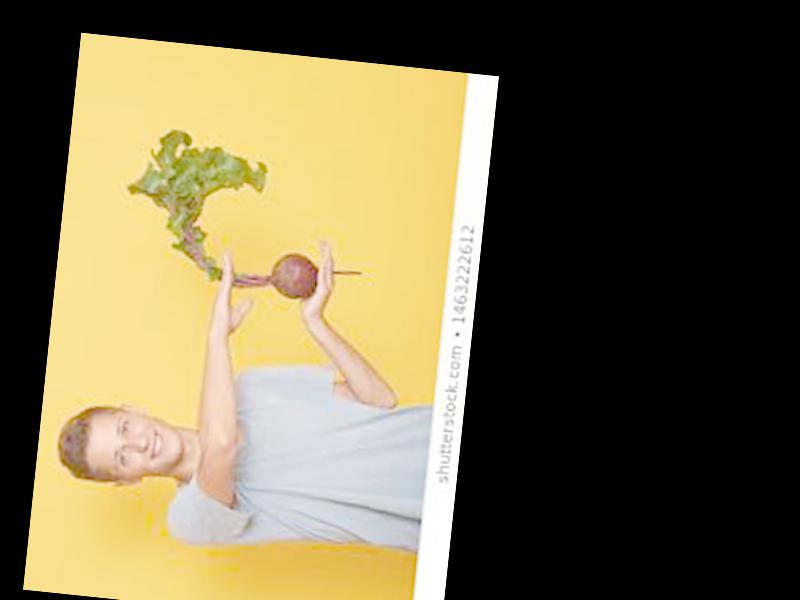Beet: (117, 124, 373, 305)
